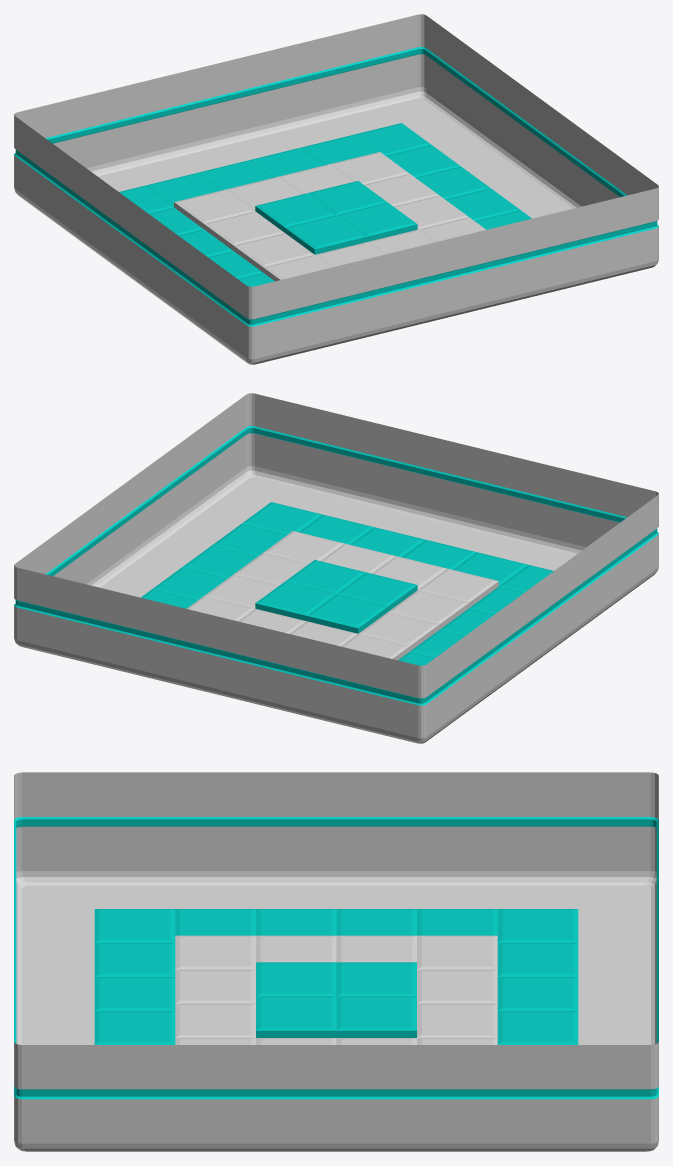
Rendered from 565Env3.fbx.
3 views of the same model, one above another, from view 1: azimuth 30°, elevation 25°; view 2: azimuth 150°, elevation 25°; view 3: azimuth 270°, elevation 25° (orthographic). The views are drawn at different scales.
Parts seen in each view (by area): view 1: Plane.002; view 2: Plane.002; view 3: Plane.002.
Boxes of the visible parts, left/top/right/bottom form: Plane.002: left=14, top=14, right=658, bottom=364; Plane.002: left=14, top=393, right=658, bottom=743; Plane.002: left=14, top=772, right=658, bottom=1151.
Size of the model in its own units: 800 by 150 by 800.
